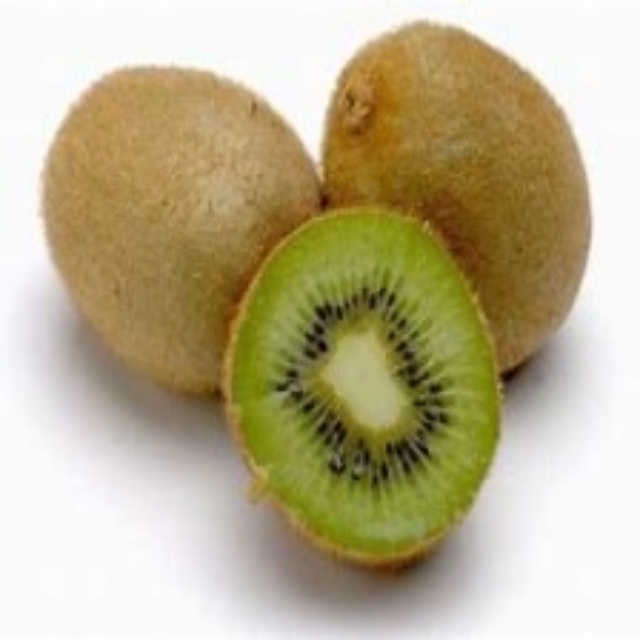kiwi: (222, 207, 499, 576), (322, 21, 589, 374), (38, 67, 317, 399)
